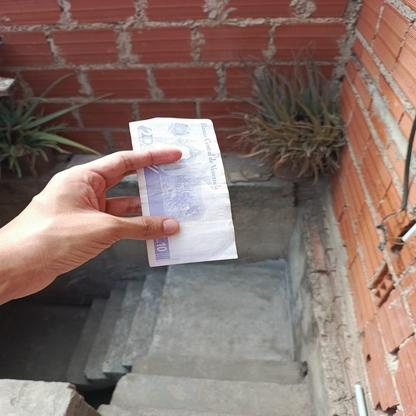ten-back-vef: (126, 119, 240, 268)
